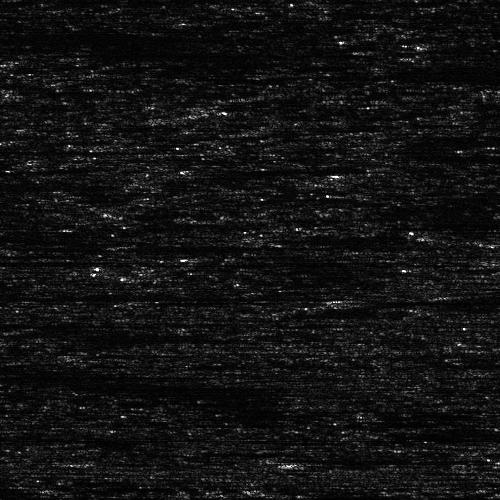rock: (246, 450, 319, 463), (0, 249, 26, 254), (104, 243, 135, 246)
shadow: (0, 290, 257, 301), (283, 450, 472, 463), (0, 145, 137, 154), (0, 256, 81, 265), (0, 249, 81, 254), (120, 243, 214, 246), (0, 322, 10, 329)
